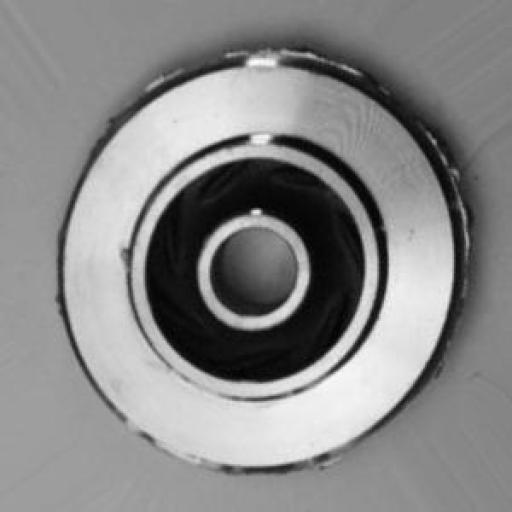defect: (32, 21, 495, 489)
